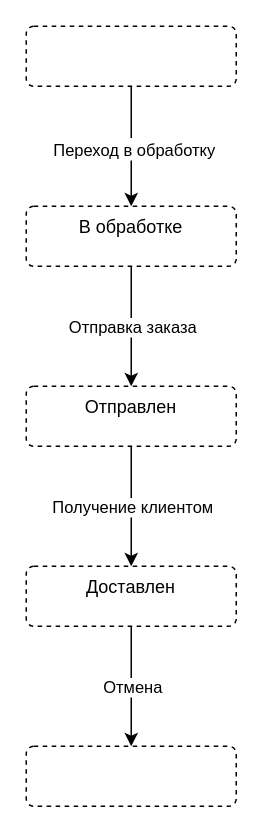
Image size: 263x833. Some labels were removed from this diagram. The shapes that lost their labels are listed below. From the top down, each one's centre as x and y in pixels, then its label:
At point (130, 55): "Создан".
At point (130, 775): "Отменен".
